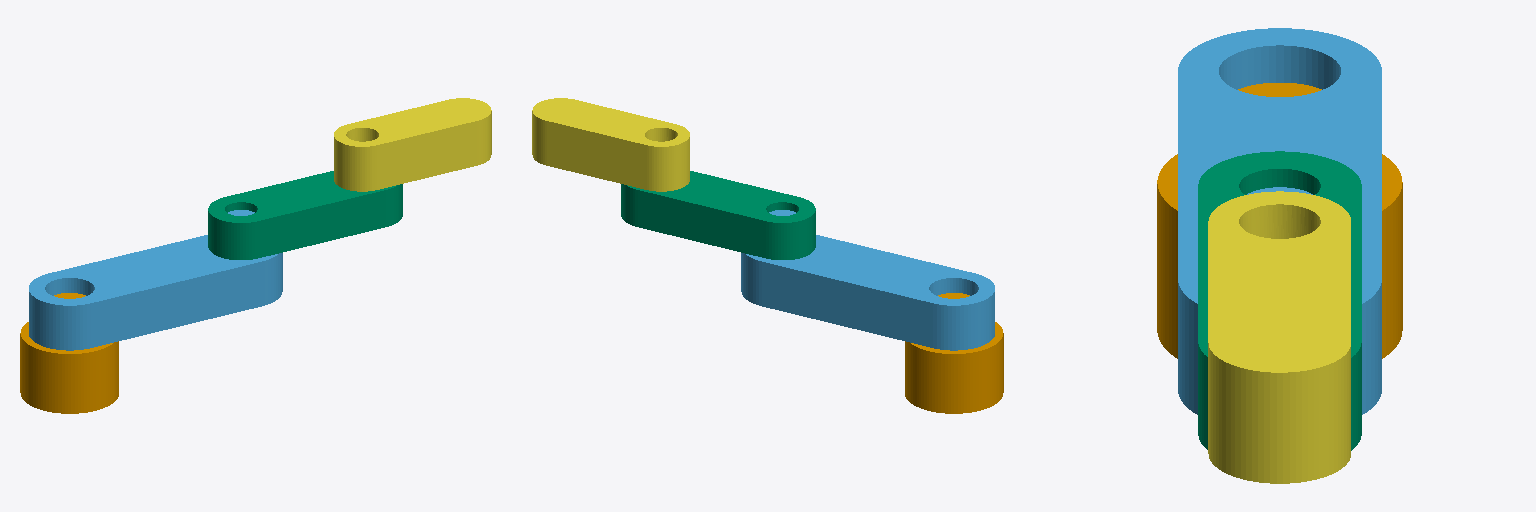
robot.urdf — Robot_sacara_examen:
<?xml version='1.0' encoding='utf-8'?>
<robot name="Robot_sacara_examen">
    <link name="base_link">
        <inertial>
            <origin xyz="4.467610416760825e-18 4.467610416760825e-18 0.023333333333333334" rpy="0.0 0.0 0.0" />
            <mass value="0.15115458893481928" />
            <inertia ixx="6.308604718737988e-05" iyy="6.30860471873781e-05" izz="6.235126793561208e-05" ixy="3.016976492694914e-36" iyz="2.250999386887998e-21" ixz="2.250999386887998e-21" />
        </inertial>
        <visual name="base_link_visual">
            <origin xyz="0.0 0.0 0.0" rpy="0.0 0.0 0.0" />
            <geometry>
                <mesh filename="package://robot_4r_description/meshes/base_link.stl" scale="0.001 0.001 0.001" />
            </geometry>
        </visual>
        <collision name="base_link_collision">
            <origin xyz="0.0 0.0 0.0" rpy="0.0 0.0 0.0" />
            <geometry>
                <mesh filename="package://robot_4r_description/meshes/base_link.stl" scale="0.001 0.001 0.001" />
            </geometry>
        </collision>
    </link>
    <link name="link_1">
        <inertial>
            <origin xyz="0.06736368973851624 0.0 0.015701303784620597" rpy="0.0 -0.0 0.0" />
            <mass value="0.26609096901450546" />
            <inertia ixx="7.843395075980036e-05" iyy="0.0005532669420485318" izz="0.0005833404940655486" ixy="0.0" iyz="1.3505996321327985e-20" ixz="-9.822493630395066e-06" />
        </inertial>
        <visual name="link_1_visual">
            <origin xyz="0.0 0.0 -0.04" rpy="0.0 -0.0 0.0" />
            <geometry>
                <mesh filename="package://robot_4r_description/meshes/link_1.stl" scale="0.001 0.001 0.001" />
            </geometry>
        </visual>
        <collision name="link_1_collision">
            <origin xyz="0.0 0.0 -0.04" rpy="0.0 -0.0 0.0" />
            <geometry>
                <mesh filename="package://robot_4r_description/meshes/link_1.stl" scale="0.001 0.001 0.001" />
            </geometry>
        </collision>
    </link>
    <link name="link_2">
        <inertial>
            <origin xyz="0.05004615068431125 0.0 -0.013679619640488347" rpy="0.0 -0.0 0.0" />
            <mass value="0.1423760146884144" />
            <inertia ixx="2.879776704405837e-05" iyy="0.00018022540540958525" izz="0.00018731075720864517" ixy="0.0" iyz="1.3505996321327985e-20" ixz="5.8704830277803675e-06" />
        </inertial>
        <visual name="link_2_visual">
            <origin xyz="-0.12 0.0 0.07" rpy="3.141592653589793 -0.0 0.0" />
            <geometry>
                <mesh filename="package://robot_4r_description/meshes/link_2.stl" scale="0.001 0.001 0.001" />
            </geometry>
        </visual>
        <collision name="link_2_collision">
            <origin xyz="-0.12 0.0 0.07" rpy="3.141592653589793 -0.0 0.0" />
            <geometry>
                <mesh filename="package://robot_4r_description/meshes/link_2.stl" scale="0.001 0.001 0.001" />
            </geometry>
        </collision>
    </link>
    <link name="link_3">
        <inertial>
            <origin xyz="0.038549302577276415 -3.058116653443173e-18 -0.015" rpy="0.0 -0.0 0.0" />
            <mass value="0.11041106219837468" />
            <inertia ixx="1.953993134944554e-05" iyy="9.10065862260584e-05" izz="9.398485824574972e-05" ixy="2.5813570953856588e-20" iyz="-3.376499080331997e-20" ixz="0.0" />
        </inertial>
        <visual name="link_3_visual">
            <origin xyz="-0.20500000000000002 0.0 0.095" rpy="3.141592653589793 -0.0 0.0" />
            <geometry>
                <mesh filename="package://robot_4r_description/meshes/link_3.stl" scale="0.001 0.001 0.001" />
            </geometry>
        </visual>
        <collision name="link_3_collision">
            <origin xyz="-0.20500000000000002 0.0 0.095" rpy="3.141592653589793 -0.0 0.0" />
            <geometry>
                <mesh filename="package://robot_4r_description/meshes/link_3.stl" scale="0.001 0.001 0.001" />
            </geometry>
        </collision>
    </link>

    <joint name="base_link_Revolución-1" type="continuous">
        <origin xyz="0.0 0.0 0.04" rpy="0.0 -0.0 0.0" />
        <parent link="base_link" />
        <child link="link_1" />
        <axis xyz="0.0 0.0 1.0" />
    </joint>
    <joint name="link_1_Revolución-2" type="continuous">
        <origin xyz="0.12 0.0 0.03" rpy="3.141592653589793 -0.0 0.0" />
        <parent link="link_1" />
        <child link="link_2" />
        <axis xyz="0.0 0.0 1.0" />
    </joint>
    <joint name="link_2_Revolución-3" type="continuous">
        <origin xyz="0.085 0.0 -0.025" rpy="0.0 -0.0 0.0" />
        <parent link="link_2" />
        <child link="link_3" />
        <axis xyz="0.0 0.0 1.0" />
    </joint>
</robot>


--- What the picture shows (computed from the rendered views, not written in the file) ---
Views: 3 orthographic renders of the robot side by side, from view 1: azimuth 30°, elevation 25°; view 2: azimuth 150°, elevation 25°; view 3: azimuth 270°, elevation 25°.
Robot: Robot_sacara_examen — 4 links, 3 joints (3 continuous); root link base_link; default pose: all joints at 0.
Visible links, largest first — view 1: link_1, link_2, link_3, base_link; view 2: link_1, link_2, link_3, base_link; view 3: link_3, link_1, link_2, base_link.
Boxes of the visible links, x1,y1,x2,y2 form: link_1: [29, 210, 282, 350]; link_2: [208, 171, 402, 259]; link_3: [334, 98, 491, 191]; base_link: [20, 293, 118, 413]; link_1: [741, 210, 994, 350]; link_2: [621, 171, 815, 259]; link_3: [532, 98, 689, 191]; base_link: [905, 293, 1003, 413]; link_3: [1208, 191, 1350, 483]; link_1: [1178, 28, 1381, 414]; link_2: [1198, 151, 1361, 450]; base_link: [1157, 83, 1402, 358].
Bounding box of the posed robot: 0.3225 × 0.06 × 0.125 m (x, y, z).
4 mesh visuals loaded from 4 distinct referenced files (4 binary STL).